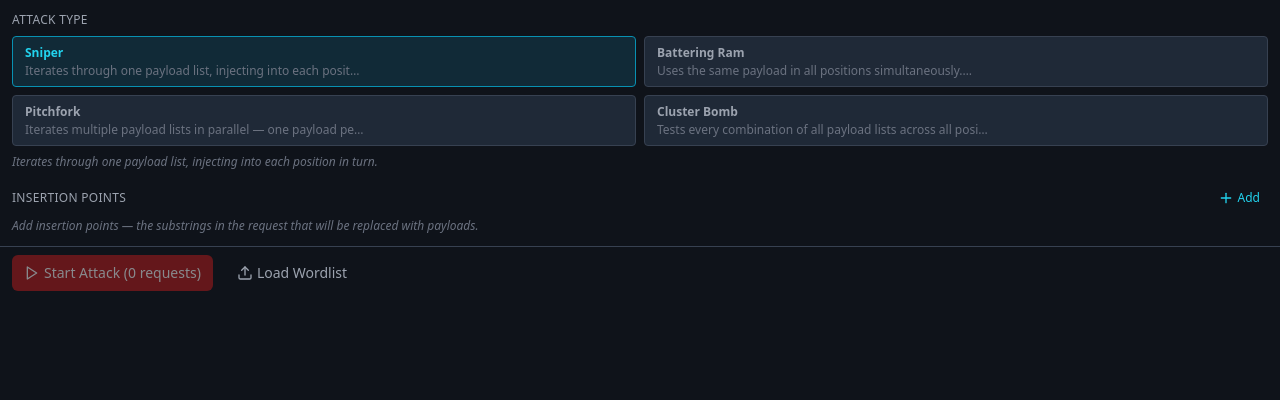
Test case: IntruderPanel › adds a position when Add is clicked
Click the button "Add" at point(1239, 198), box top-left (1210, 186), bottom-right (1268, 210)
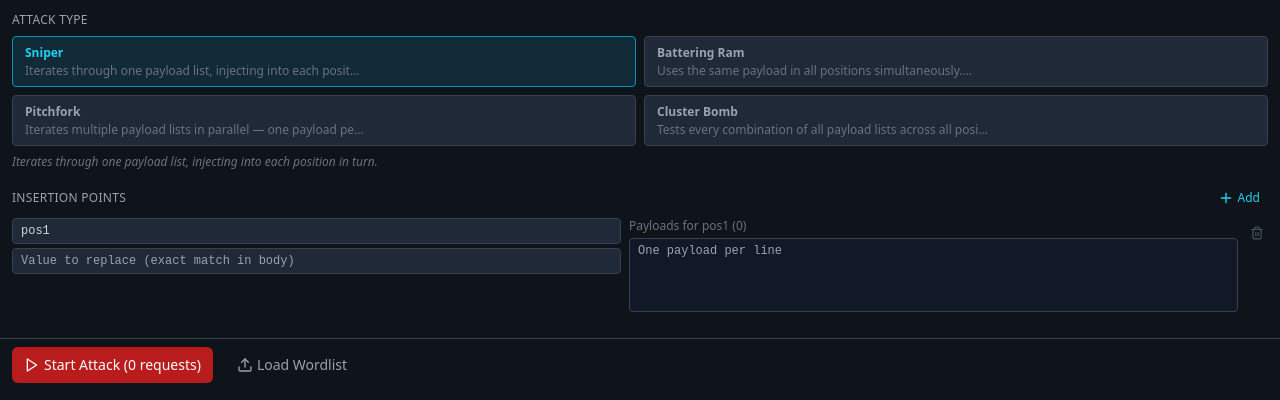
Expected: the field with placeholder "Position name" is shown, top-left (12, 218), bottom-right (621, 244)
